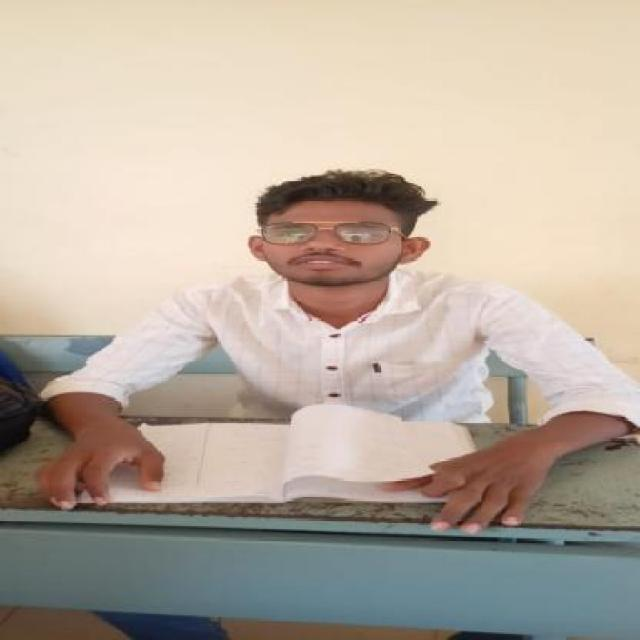good: (29, 137, 640, 530)
